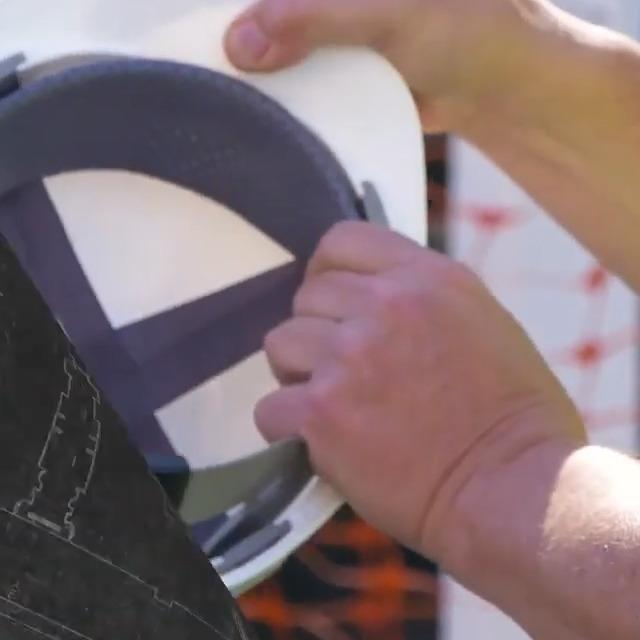Hardhat: (0, 0, 427, 597)
Person: (224, 0, 640, 640)
